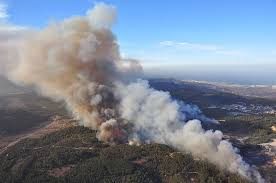yanwu: (1, 3, 261, 179)
